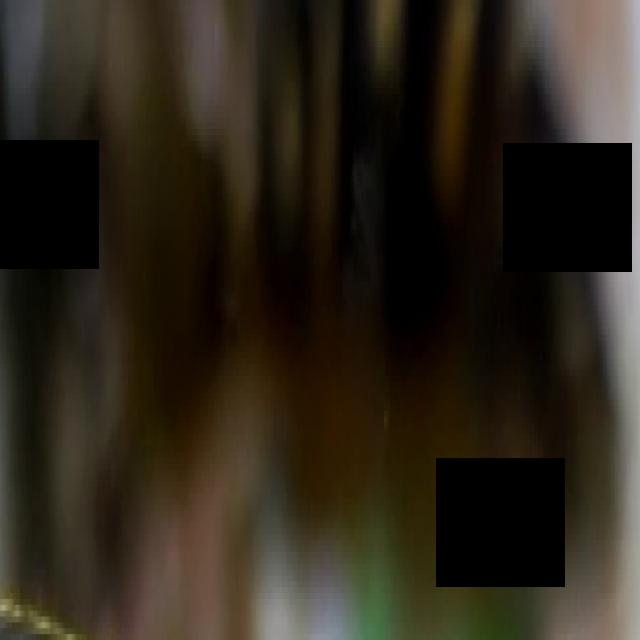fish: (1, 6, 640, 640)
